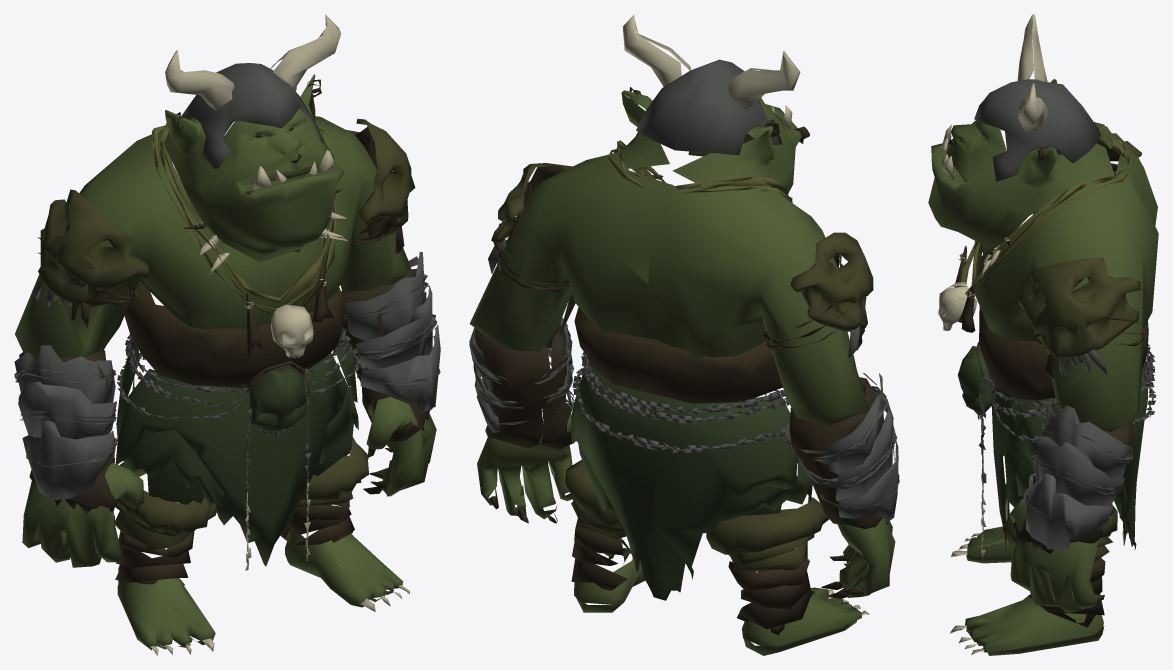
The model's file is swamp_troll.glb.
3 views of the same model, side by side, from view 1: azimuth 30°, elevation 25°; view 2: azimuth 150°, elevation 25°; view 3: azimuth 270°, elevation 25° (orthographic). The views are drawn at different scales.
Visible parts, largest first — view 1: node_id30_mesh_id31; view 2: node_id30_mesh_id31; view 3: node_id30_mesh_id31.
Part boxes in pixels (box(x1,y1,x2,y2)): node_id30_mesh_id31: box(14, 14, 440, 655); node_id30_mesh_id31: box(469, 14, 899, 655); node_id30_mesh_id31: box(928, 14, 1158, 655).
Bounding box in the file's own units: 1.63 × 2.2 × 0.8328.
